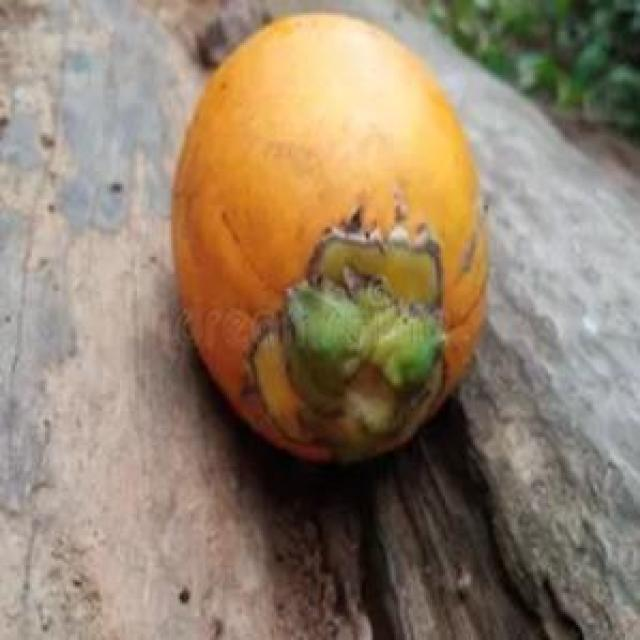good: (171, 13, 490, 467)
